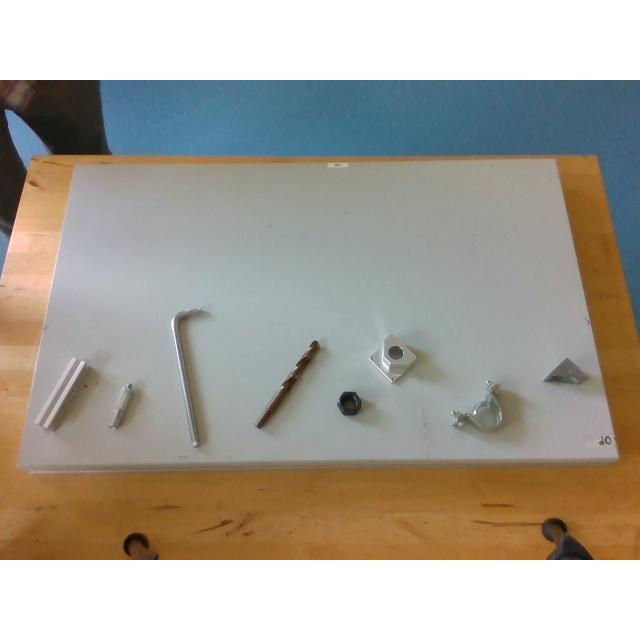AllenKey: (172, 307, 206, 449)
Drill: (256, 340, 318, 428)
Housing: (451, 378, 503, 429)
M20: (338, 391, 362, 414)
S40_40_G: (34, 358, 88, 429)
